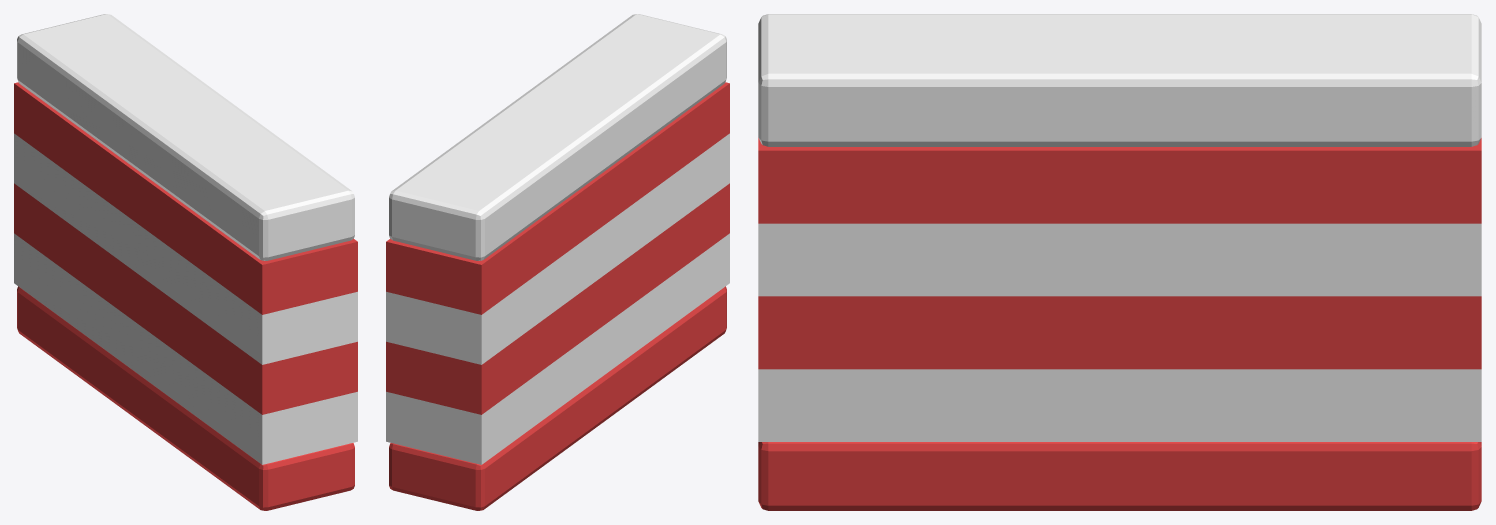
File: Pillar.fbx
The picture shows the model from 3 angles, left to right: view 1: azimuth 30°, elevation 25°; view 2: azimuth 150°, elevation 25°; view 3: azimuth 270°, elevation 25°; orthographic projection. The views are drawn at different scales.
Parts seen in each view (by area): view 1: Pillar; view 2: Pillar; view 3: Pillar.
Part boxes in pixels (bbox=[...]): Pillar: bbox=[14, 14, 357, 510]; Pillar: bbox=[386, 14, 729, 510]; Pillar: bbox=[758, 14, 1481, 510].
Bounding box in the file's own units: 4 × 12 × 18.
1 material, 1 textured.
